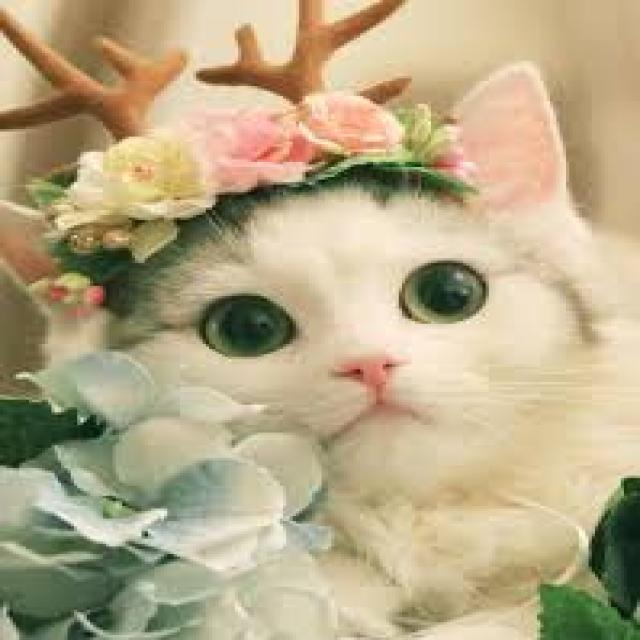Cat: (0, 60, 624, 606)
